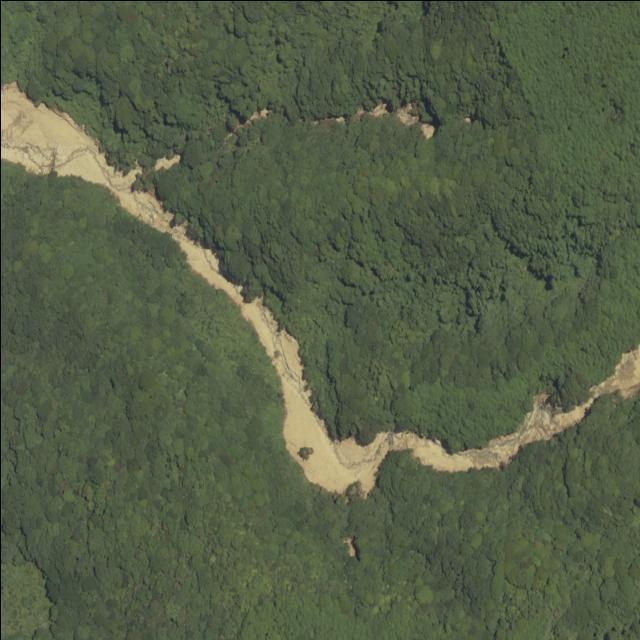landslide: (0, 82, 640, 495)
